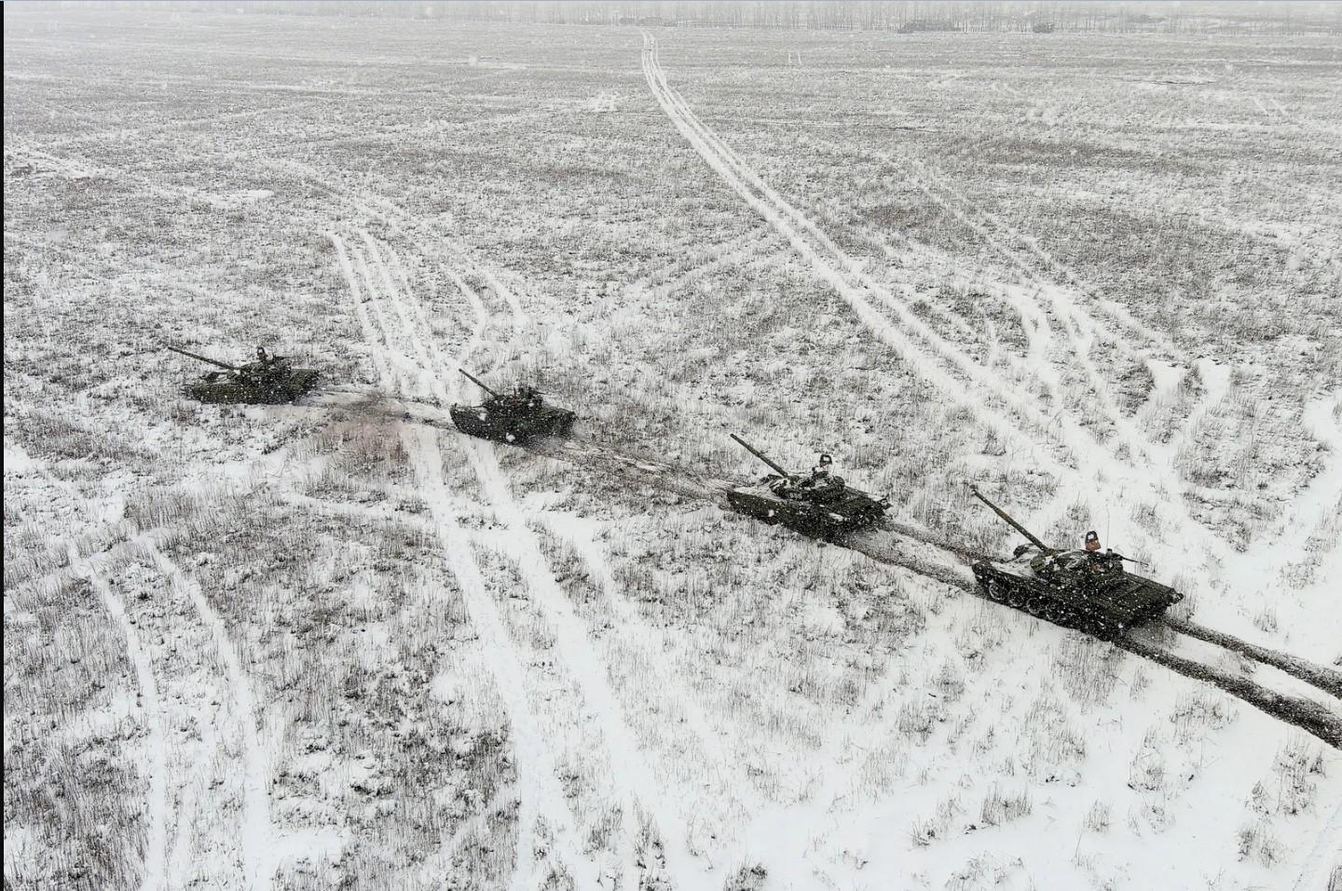tank: (955, 480, 1187, 644), (721, 430, 892, 546), (439, 367, 588, 452), (164, 341, 326, 411)
